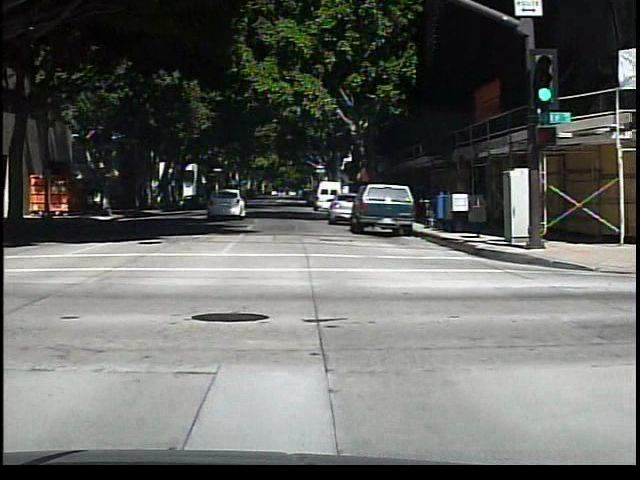person: (88, 183, 104, 217)
